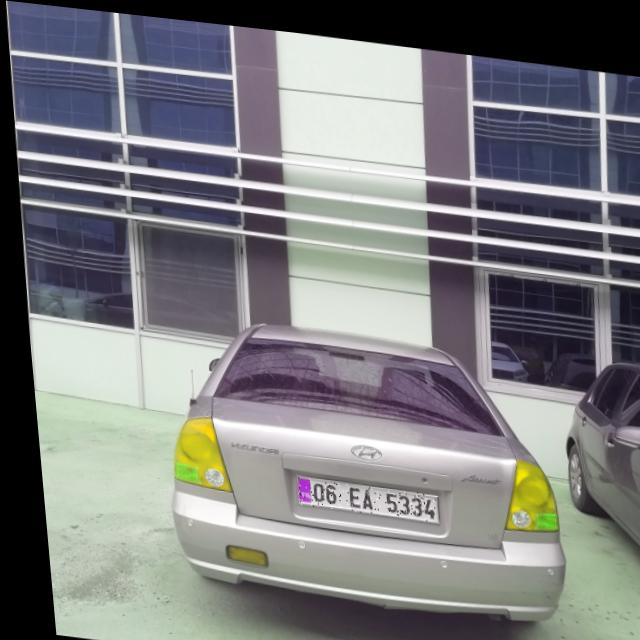license_plate: (288, 470, 430, 513)
